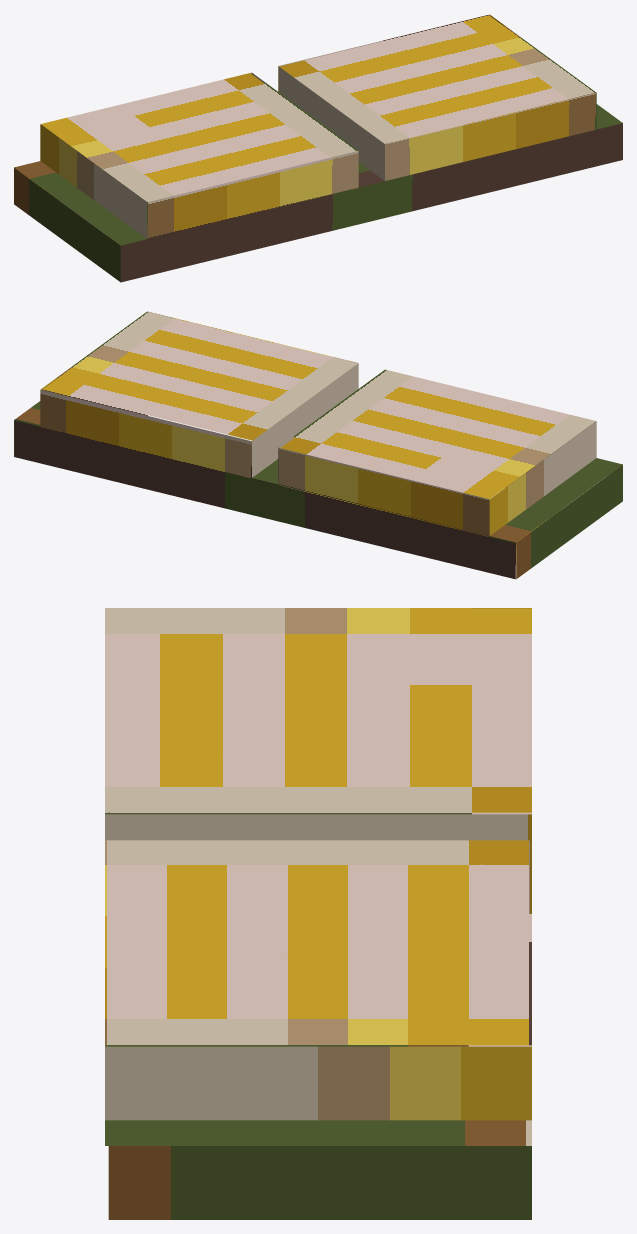
Rendered from book_642x06.obj.
The picture shows the model from 3 angles, top to bottom: view 1: azimuth 30°, elevation 25°; view 2: azimuth 150°, elevation 25°; view 3: azimuth 270°, elevation 25°; orthographic projection. The views are drawn at different scales.
Parts seen in each view (by area): view 1: Cube; view 2: Cube; view 3: Cube.
Part boxes in pixels (left/top/right/bottom): Cube: left=14, top=14, right=622, bottom=282; Cube: left=14, top=311, right=622, bottom=579; Cube: left=105, top=608, right=531, bottom=1219.
Bounding box in the file's own units: 2.38 × 0.3333 × 0.875.
